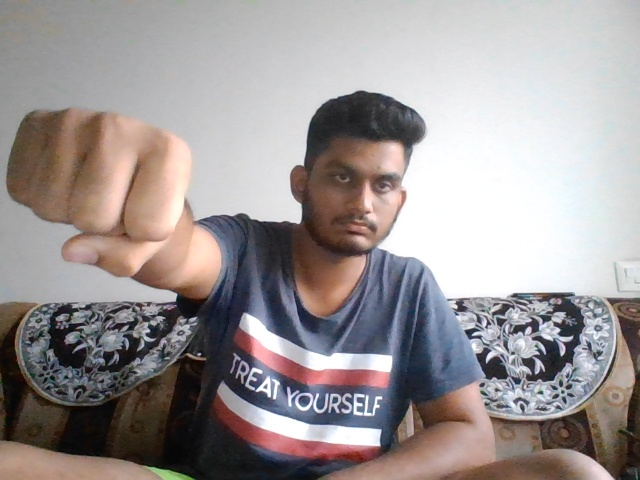Yes: (3, 101, 201, 277)
